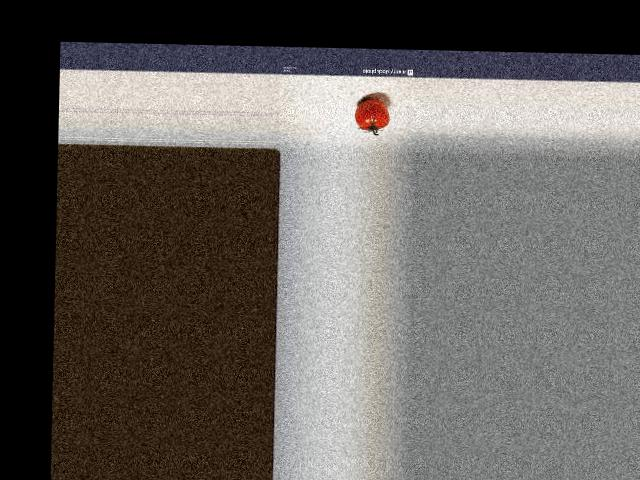tomato: (354, 98, 389, 129)
